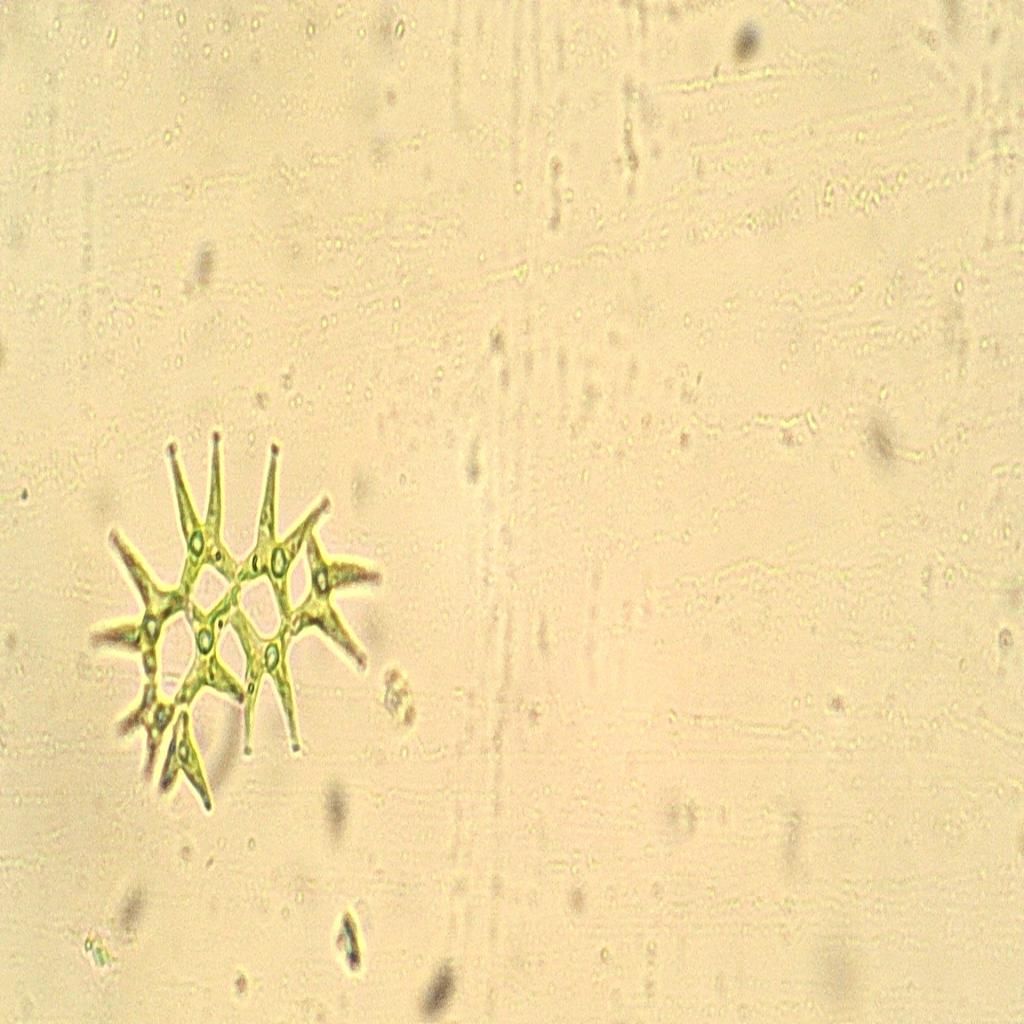Pediastrum_CFI: (72, 419, 406, 845)
